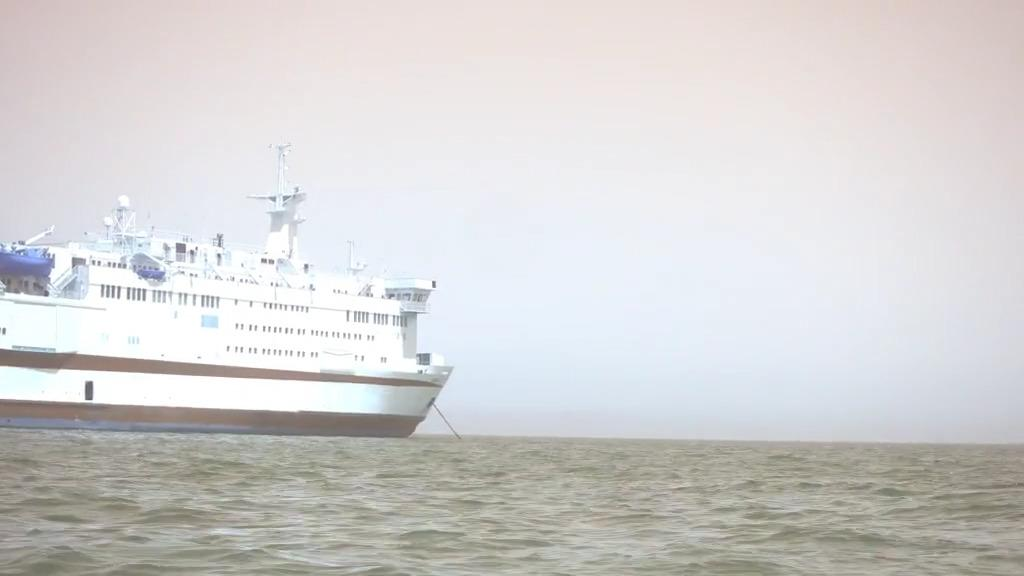PassengerShip: (0, 133, 458, 445)
